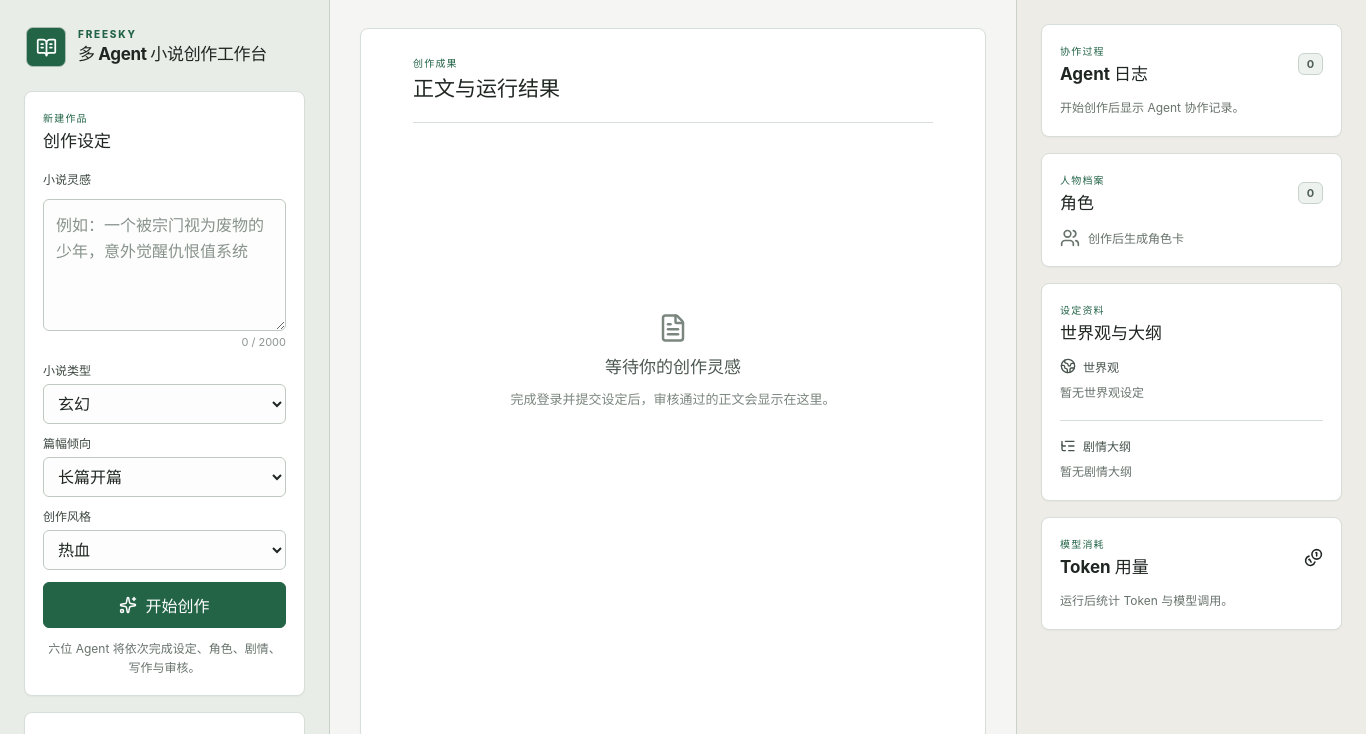
Test: Freesky 创作工作台 › 创作中显示 loading 并禁止重复提交
Type "一座会移动的天空城" into the text box labelled "小说灵感" at (164, 265), box [43,199,286,331]
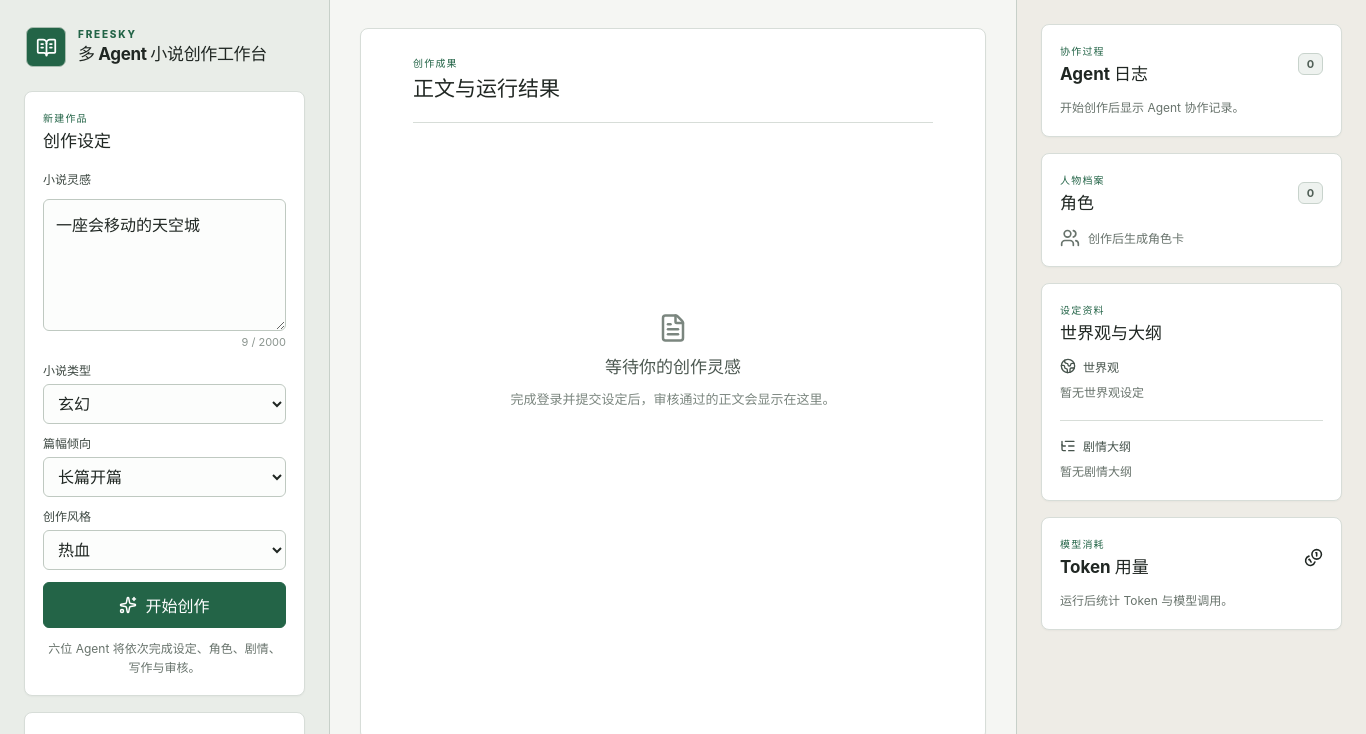
Click the button "开始创作" at (164, 605), box [43,582,286,628]
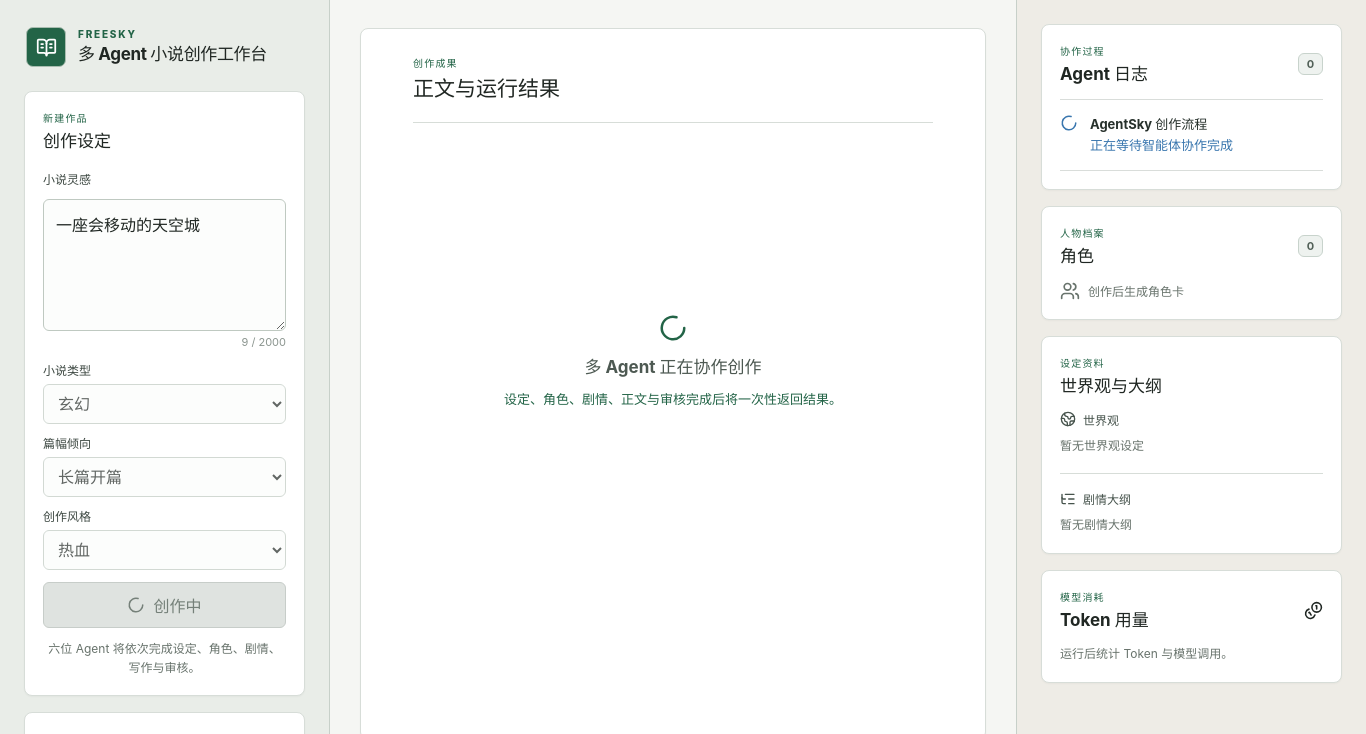
expect the button "创作中" is disabled: met
Click the button "创作中" at (164, 605), box [43,582,286,628]
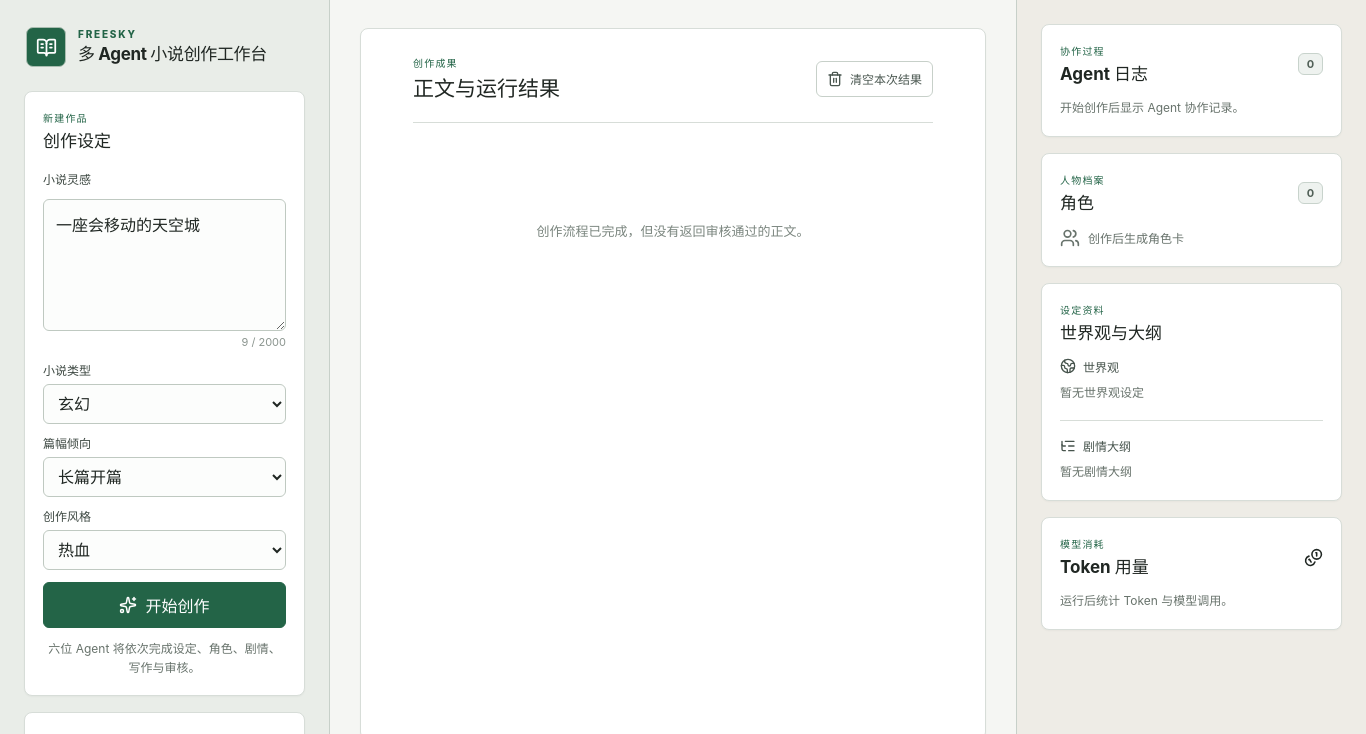
expect the button "开始创作" is shown: met, box [43,582,286,628]
